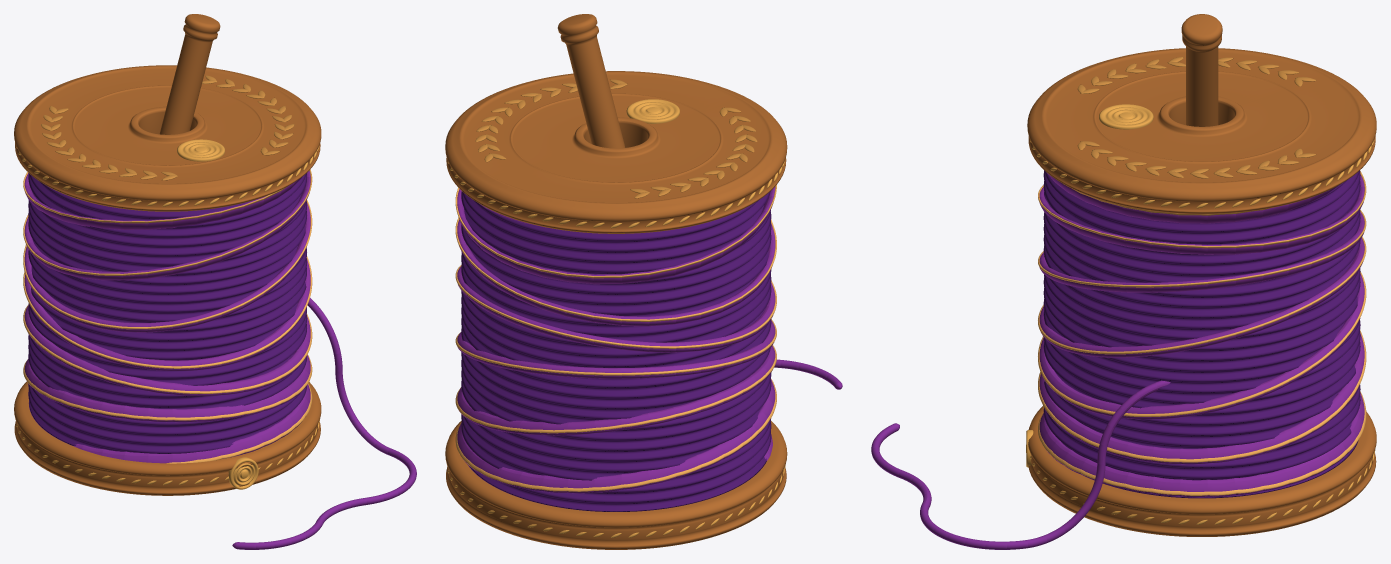
The model's file is ariadne.gltf.
3 views of the same model, side by side, from view 1: azimuth 30°, elevation 25°; view 2: azimuth 150°, elevation 25°; view 3: azimuth 270°, elevation 25° (orthographic). The views are drawn at different scales.
Parts seen in each view (by area): view 1: yarn, lid, wrap, base, filament, spindle, leaf (×2), tail, seal; view 2: yarn, lid, wrap, base, filament, spindle, leaf (×2), seal, tail; view 3: yarn, lid, wrap, base, filament, leaf (×2), tail, spindle, seal.
Boxes of the visible parts, bbox=[...] form: yarn: bbox=[28, 173, 306, 453]; lid: bbox=[14, 65, 321, 211]; wrap: bbox=[24, 171, 310, 463]; base: bbox=[14, 381, 321, 495]; filament: bbox=[23, 169, 312, 463]; spindle: bbox=[159, 14, 220, 134]; leaf (×2): bbox=[15, 75, 319, 485]; tail: bbox=[237, 298, 416, 549]; seal: bbox=[177, 139, 258, 489]; yarn: bbox=[461, 191, 771, 511]; lid: bbox=[445, 71, 787, 233]; wrap: bbox=[457, 186, 775, 493]; base: bbox=[445, 421, 787, 549]; filament: bbox=[455, 185, 776, 491]; spindle: bbox=[557, 14, 625, 148]; leaf (×2): bbox=[447, 79, 785, 537]; seal: bbox=[626, 99, 679, 123]; tail: bbox=[774, 359, 840, 387]; yarn: bbox=[1043, 170, 1360, 498]; lid: bbox=[1027, 48, 1376, 214]; wrap: bbox=[1039, 173, 1364, 497]; base: bbox=[1028, 406, 1376, 536]; filament: bbox=[1038, 171, 1366, 495]; leaf (×2): bbox=[1030, 57, 1375, 524]; tail: bbox=[871, 380, 1170, 549]; spindle: bbox=[1181, 14, 1222, 126]; seal: bbox=[1026, 104, 1153, 467].
Size of the model in its own units: 0.7145 by 0.9832 by 0.9668.
